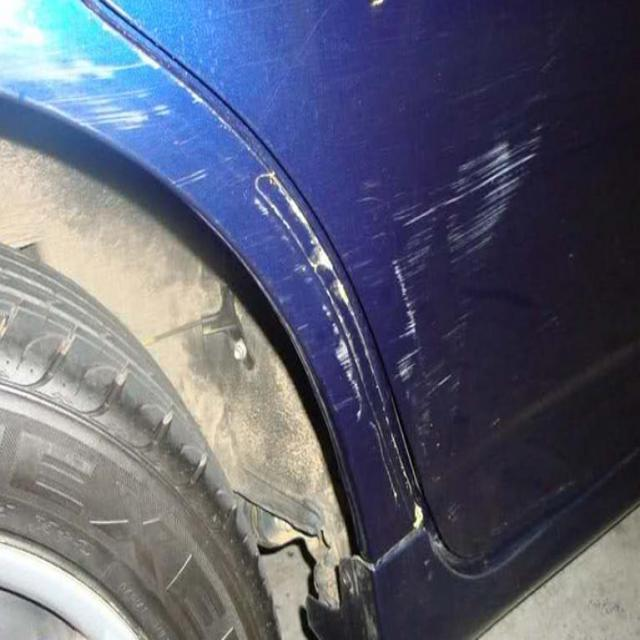scratch: (35, 29, 370, 372), (353, 110, 559, 512)
